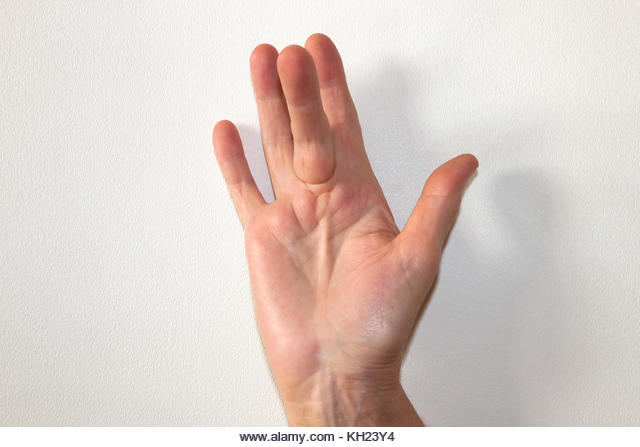hand: (170, 18, 492, 402)
